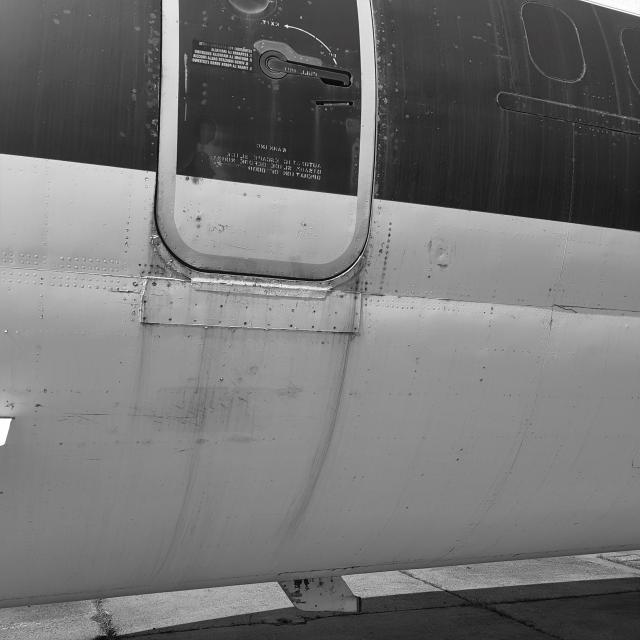crack: (554, 302, 587, 321)
